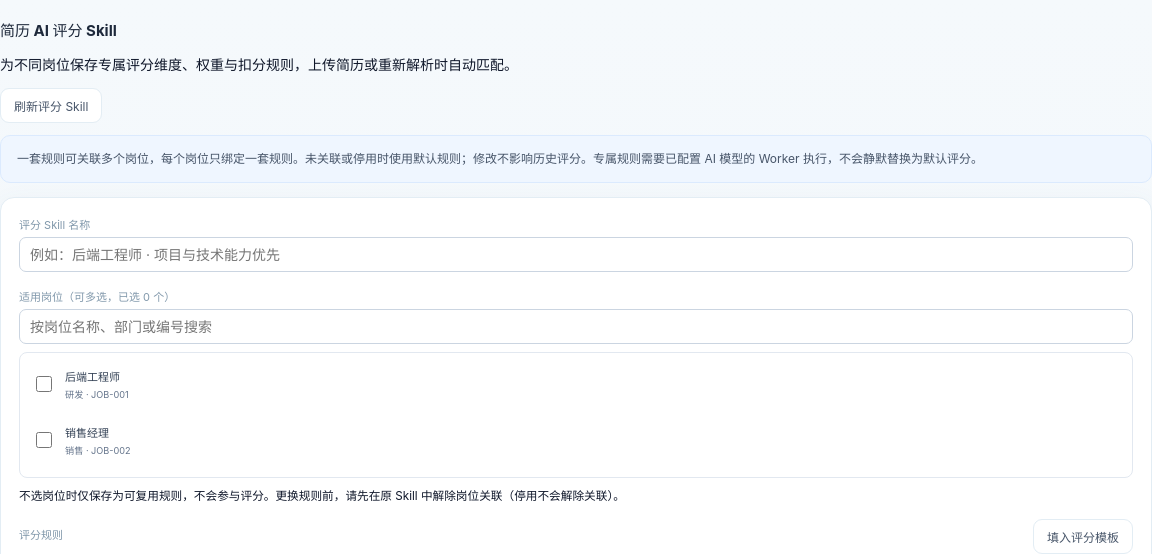
Test: ResumeScoringSkills › keeps the draft and reports server-side assignment conflicts
In the field with id "resume-scoring-skill-name": (576, 254) [19,237,1133,272], type "规则"
(page scrolled)
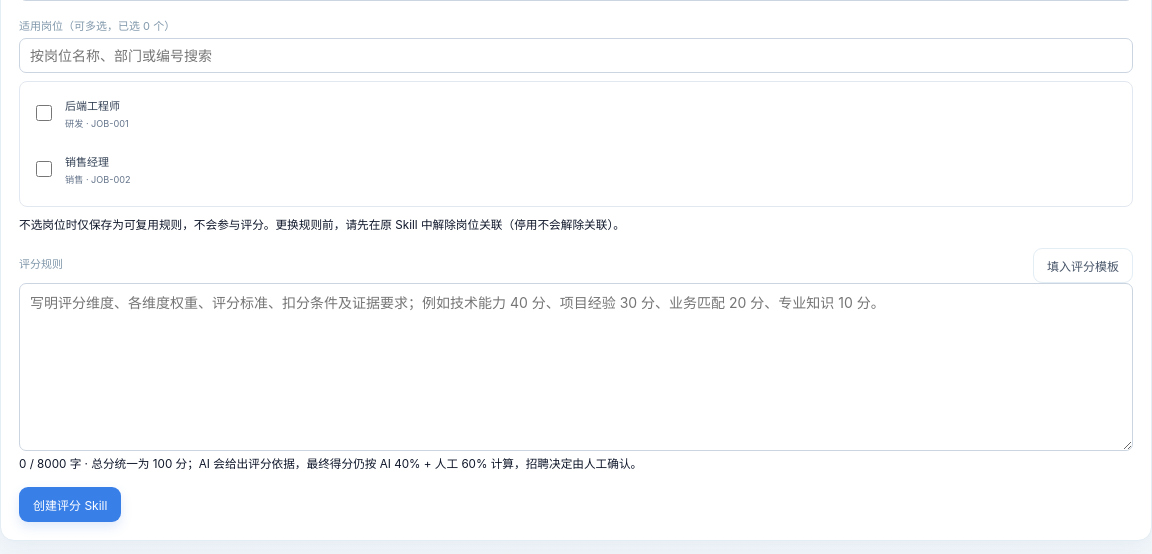
Replace the text in the text box with id "resume-scoring-skill-content" with "项目 100 分": (576, 367) [19,283,1133,451]
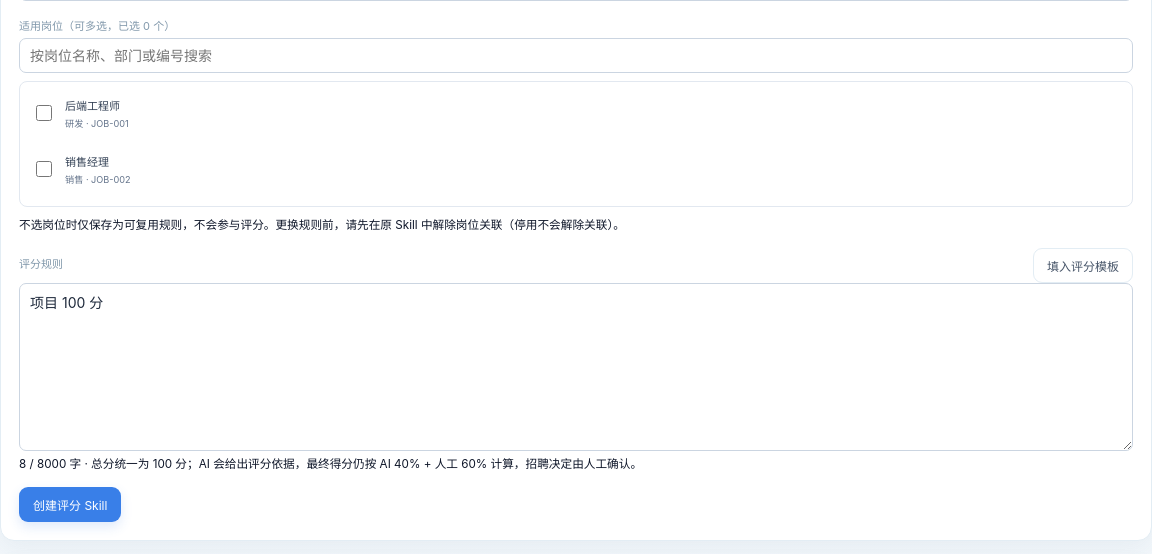
Click the button "创建评分 Skill": (70, 504) [19,487,121,522]
(page scrolled)
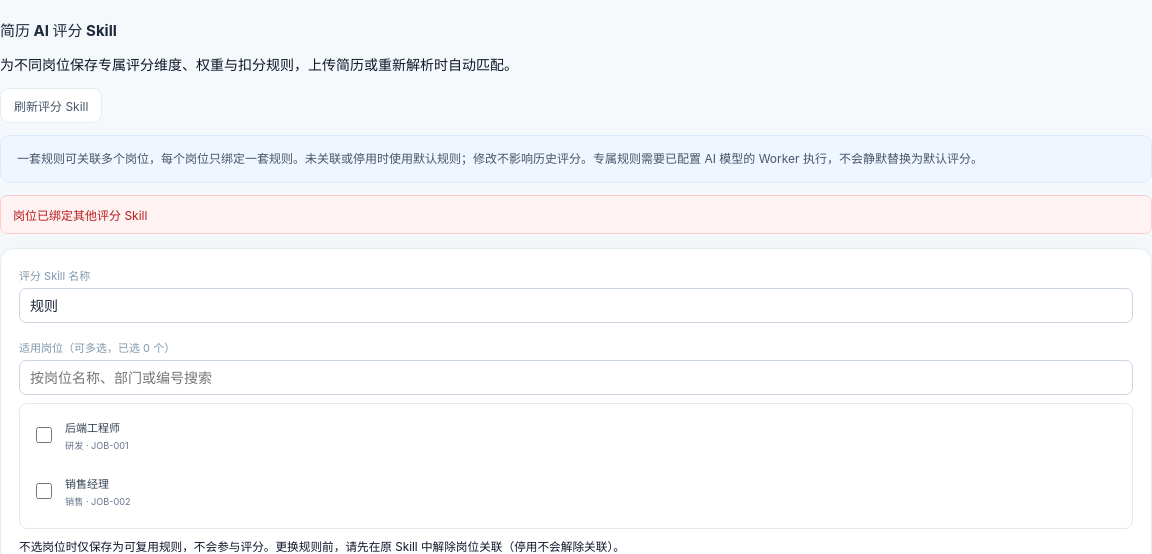
Expected: the message "岗位已绑定其他评分 Skill" is shown, [0,195,1151,234]
